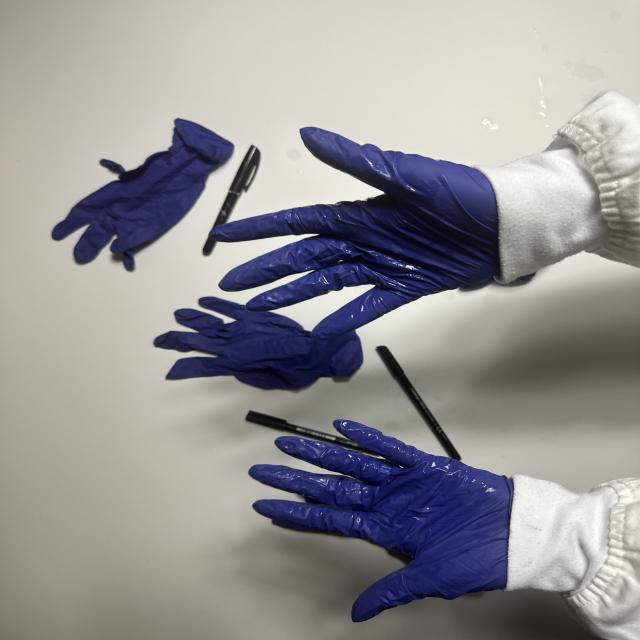gloves_contaminated: (213, 128, 499, 338), (250, 421, 514, 621)
